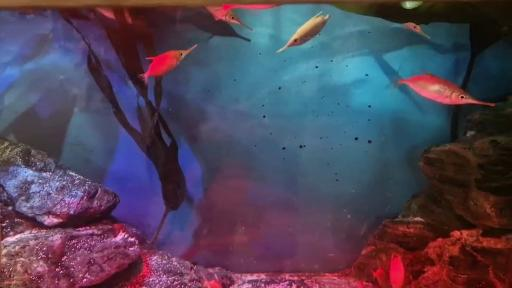Fish: (396, 71, 495, 106), (139, 44, 197, 84), (180, 9, 250, 41), (277, 12, 329, 53), (205, 7, 252, 30), (390, 254, 405, 287), (222, 4, 280, 11), (403, 23, 430, 38), (374, 268, 390, 287), (96, 8, 115, 20), (401, 1, 422, 9), (205, 279, 223, 288), (359, 281, 364, 287)
